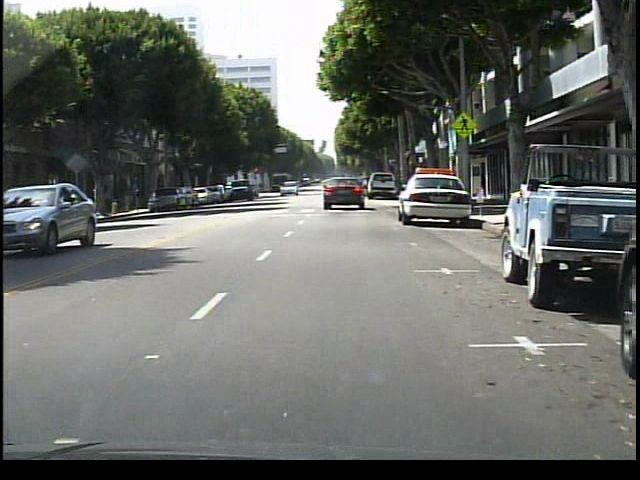person: (25, 179, 50, 229)
